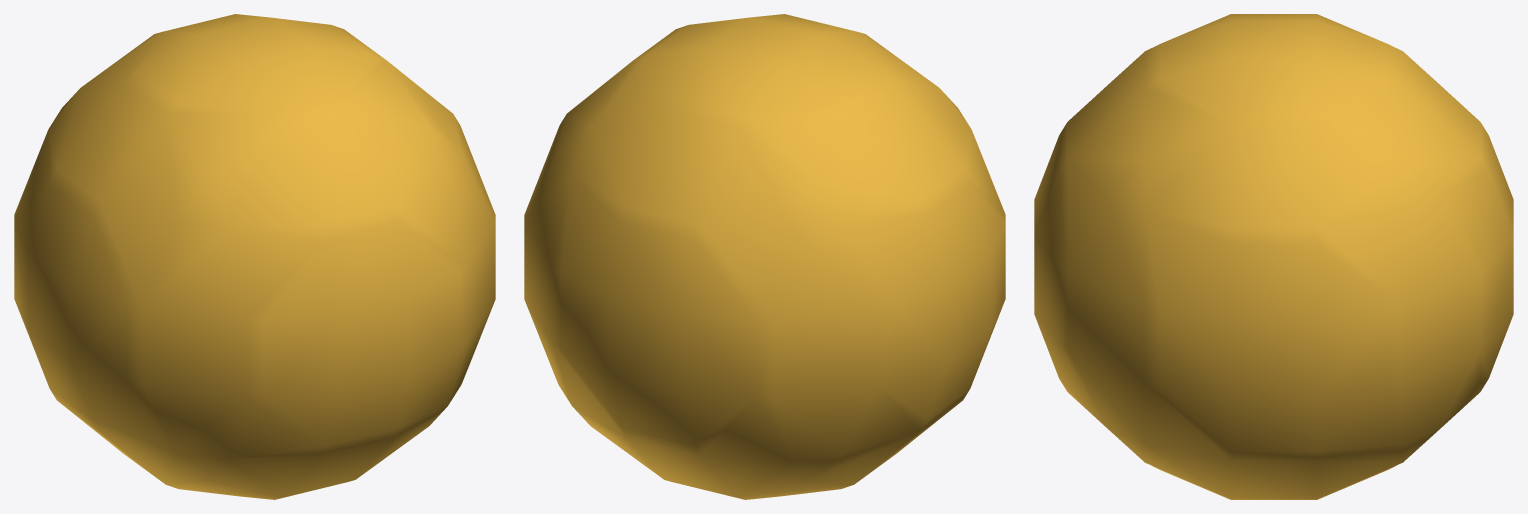
File: Gib.fbx
3 views of the same model, side by side, from view 1: azimuth 30°, elevation 25°; view 2: azimuth 150°, elevation 25°; view 3: azimuth 270°, elevation 25° (orthographic).
Parts seen in each view (by area): view 1: Mball; view 2: Mball; view 3: Mball.
Boxes of the visible parts, <box> form: Mball: <box>14,14,495,499</box>; Mball: <box>524,14,1005,499</box>; Mball: <box>1034,14,1513,499</box>.
Bounding box in the file's own units: 137 × 137 × 137.
